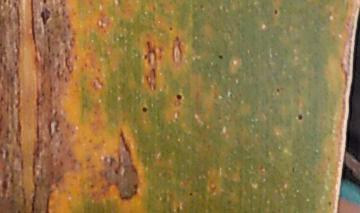tarspot: (39, 6, 51, 27), (1, 172, 10, 190), (45, 34, 52, 54), (294, 111, 304, 124), (145, 75, 152, 92), (150, 67, 158, 81), (146, 49, 152, 65), (271, 7, 280, 17), (5, 99, 10, 115), (151, 49, 157, 62), (4, 148, 9, 163), (216, 52, 224, 61), (140, 106, 149, 114), (57, 159, 65, 167), (326, 199, 333, 208), (145, 39, 151, 49), (152, 81, 157, 93), (175, 93, 182, 101), (9, 174, 15, 183), (39, 1, 49, 6), (167, 25, 174, 32), (275, 86, 281, 94), (66, 22, 72, 30), (83, 61, 89, 69), (187, 191, 194, 197), (2, 64, 8, 71), (142, 54, 148, 61), (95, 66, 102, 72), (86, 155, 91, 163), (13, 59, 17, 68), (345, 21, 350, 28), (47, 58, 52, 65), (291, 165, 295, 173), (89, 183, 95, 188), (73, 54, 78, 60), (39, 91, 44, 97), (16, 209, 23, 213), (1, 148, 4, 156), (1, 96, 5, 101)
